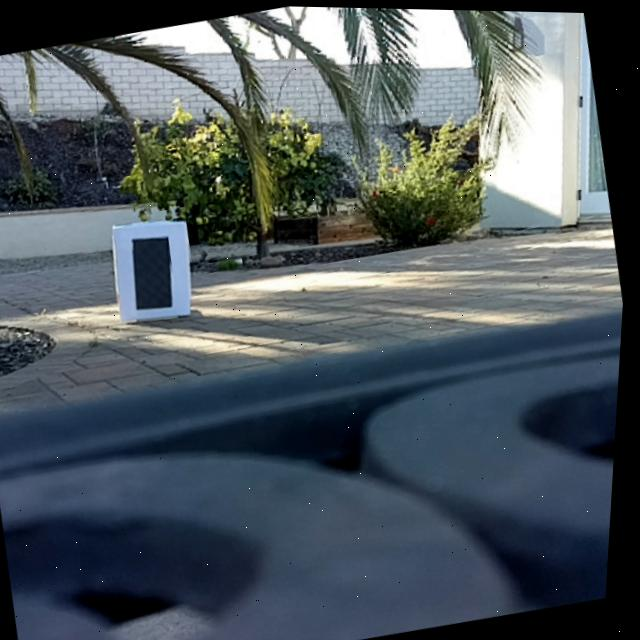led: (127, 227, 188, 314)
